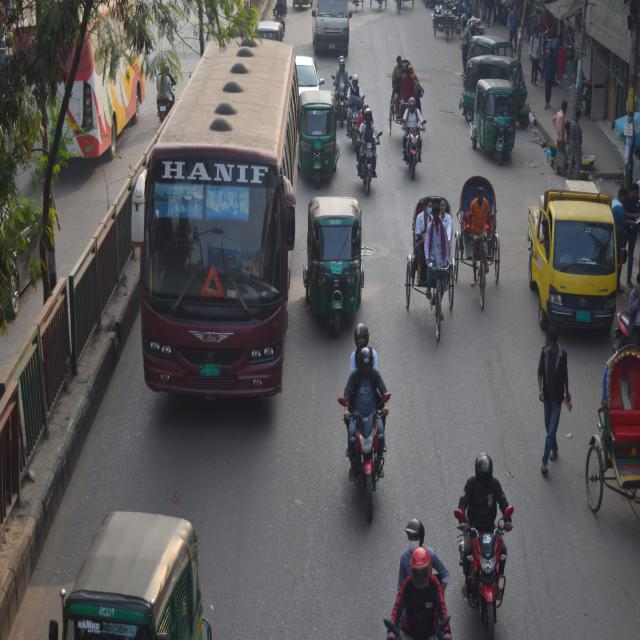bus: (140, 13, 298, 426)
car: (294, 42, 324, 102)
microbus: (309, 0, 361, 58)
motorbike: (324, 316, 402, 516), (454, 451, 524, 634), (382, 522, 449, 640), (395, 98, 439, 174), (348, 122, 385, 193)
